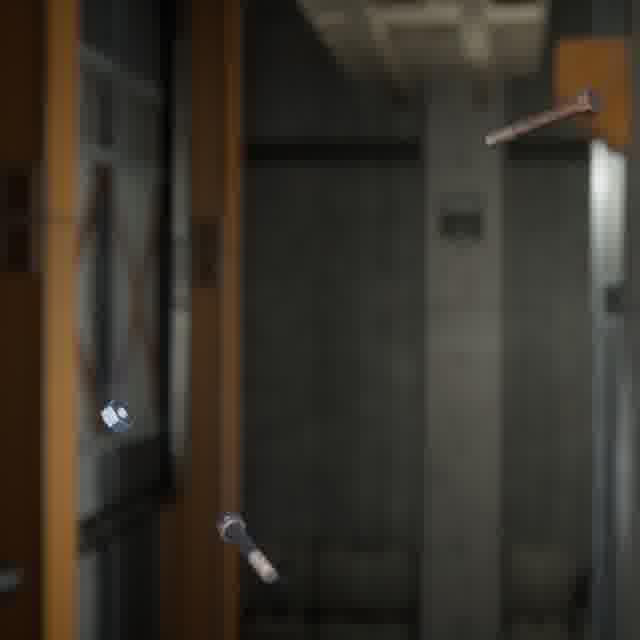bolt: (480, 82, 606, 151), (210, 507, 282, 588)
nut: (96, 395, 137, 438)
